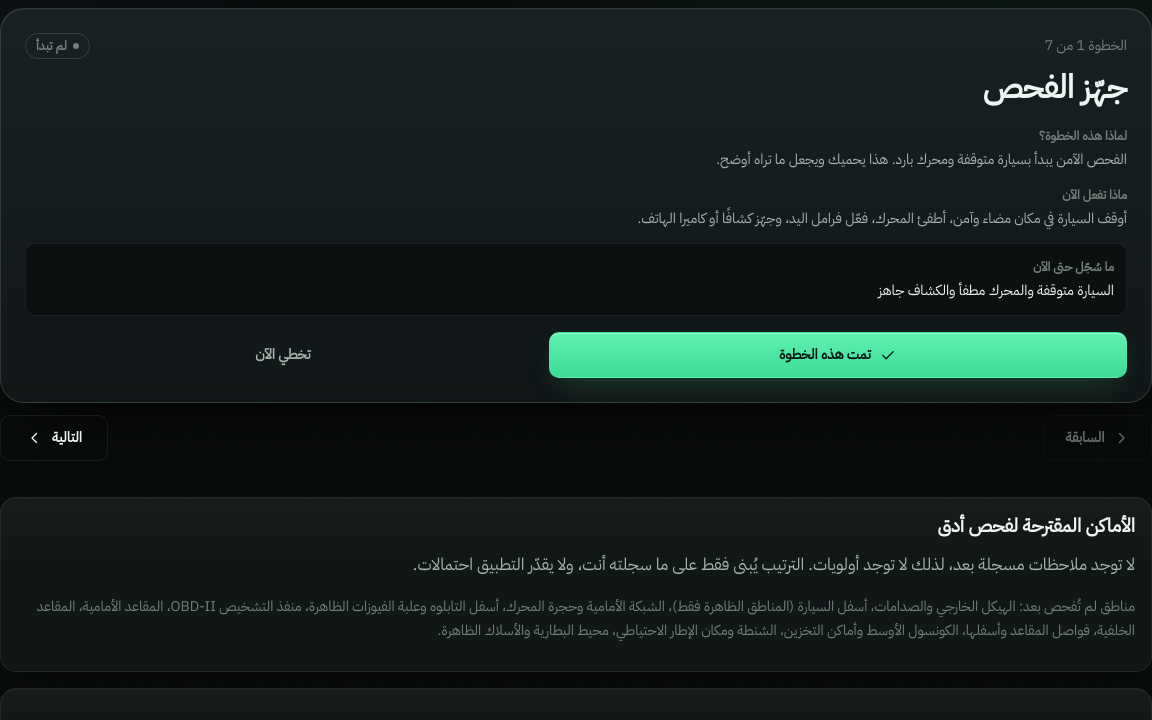
Test: dashboard journey › marks a step done, confirms it, and advances to the next open step
(page scrolled)
Expected: the element that starts with "الخطوة" is shown, [0,8,1151,403]
Step 1. Click the button "تمت هذه الخطوة" → {"x": 838, "y": 355}, box [549,332,1127,378]
(page scrolled)
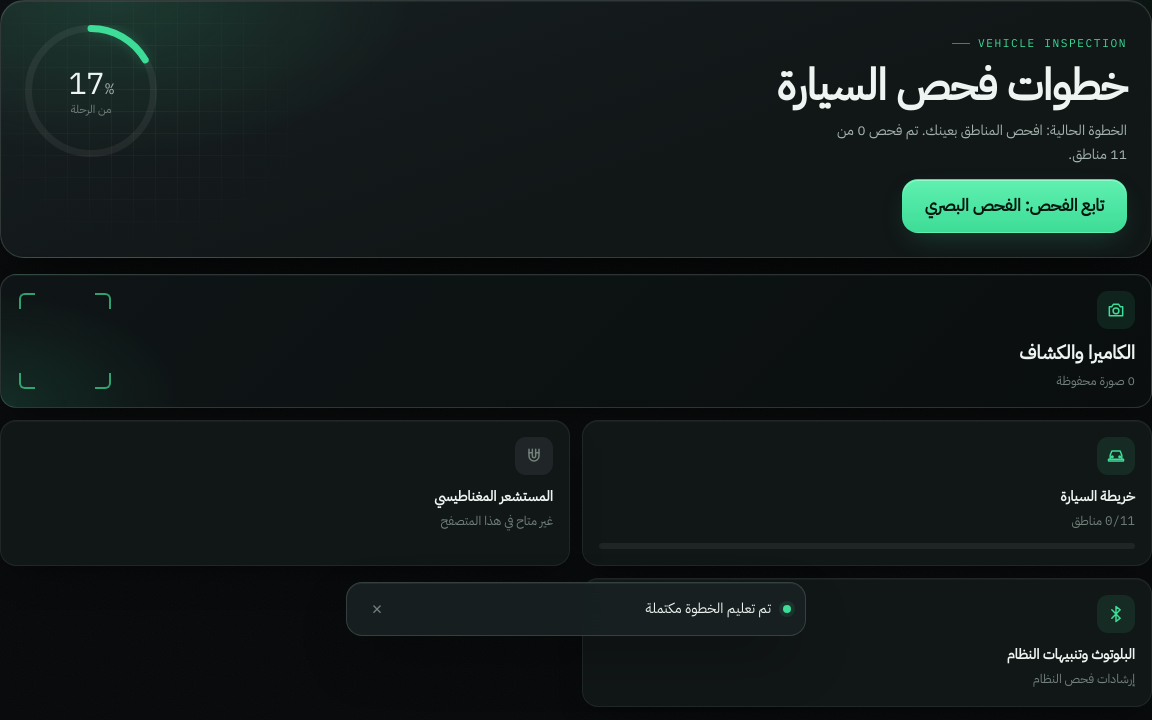
Expected: the text "تم تعليم الخطوة مكتملة" is shown, [646,598,771,619]
Expected: the button "تابع الفحص: الفحص البصري" is shown, [902,178,1127,232]
